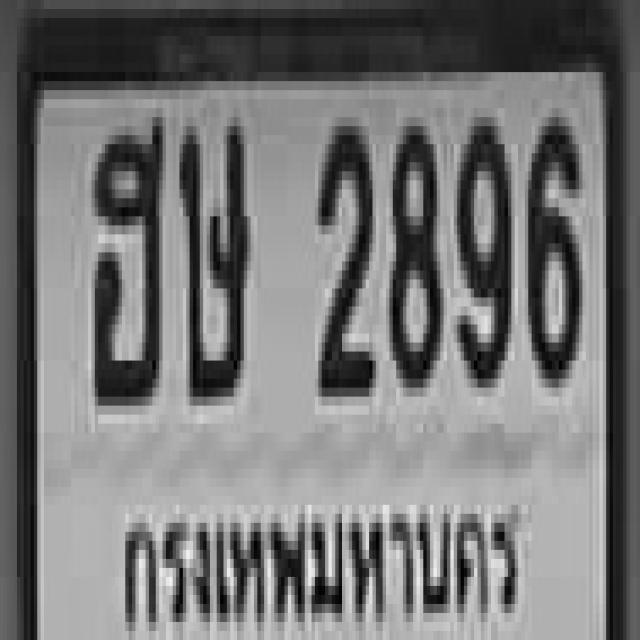2: (315, 117, 369, 388)
48SorRueSi: (176, 117, 247, 397)
53HorNokHook: (91, 108, 162, 397)
6: (525, 108, 579, 379)
8: (386, 117, 437, 379)
9: (454, 108, 508, 379)
Bangkok: (119, 495, 526, 640)
